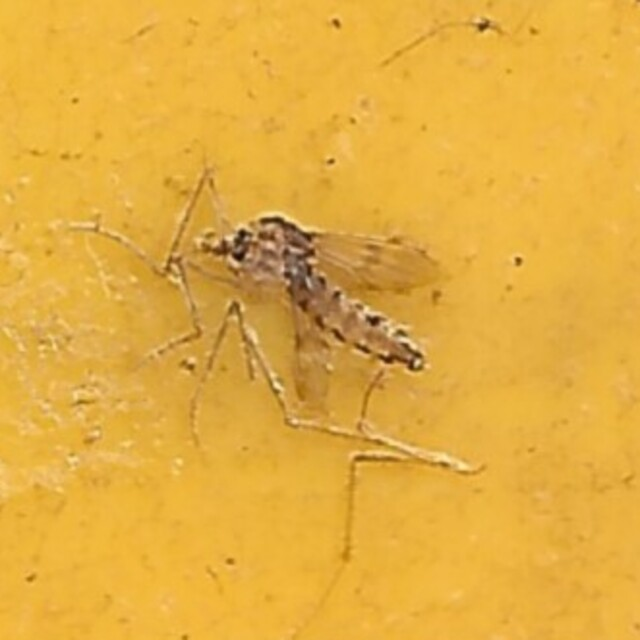Nematocera: (193, 209, 447, 431)
